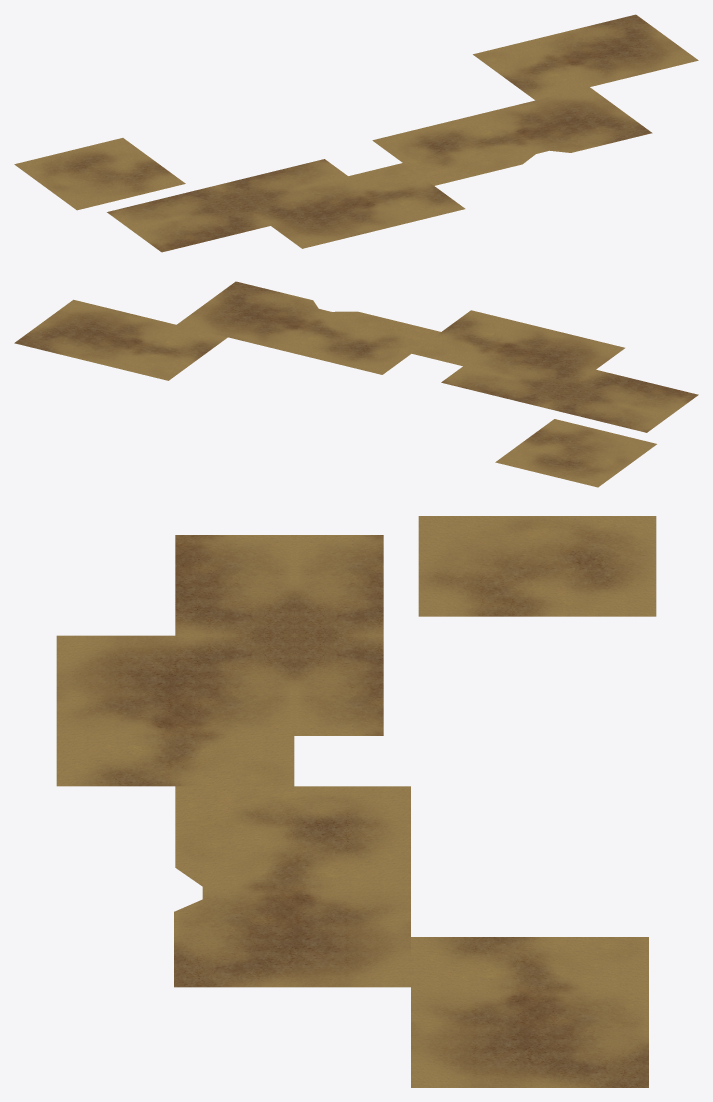
The model's file is Northern Desert_1F_all.FBX.
3 renders of one model, top to bottom at view 1: azimuth 30°, elevation 25°; view 2: azimuth 150°, elevation 25°; view 3: azimuth 270°, elevation 25°, orthographic. The views are drawn at different scales.
Parts seen in each view (by area): view 1: Northern Desert_1F_03, Northern Desert_1F_02, Northern Desert_1F_04, Northern Desert_1F_01, Northern Desert_1F_05; view 2: Northern Desert_1F_03, Northern Desert_1F_02, Northern Desert_1F_04, Northern Desert_1F_01, Northern Desert_1F_05; view 3: Northern Desert_1F_03, Northern Desert_1F_02, Northern Desert_1F_04, Northern Desert_1F_01, Northern Desert_1F_05.
Part boxes in pixels (x1,y1,x2,y2): Northern Desert_1F_03: (372,87,652,185); Northern Desert_1F_02: (216,159,465,248); Northern Desert_1F_04: (473,14,698,100); Northern Desert_1F_01: (14,138,185,210); Northern Desert_1F_05: (107,185,270,252); Northern Desert_1F_03: (177,281,440,374); Northern Desert_1F_02: (412,310,624,407); Northern Desert_1F_04: (14,299,227,380); Northern Desert_1F_01: (495,419,656,487); Northern Desert_1F_05: (544,369,698,432); Northern Desert_1F_03: (174,786,410,987); Northern Desert_1F_02: (56,635,383,786); Northern Desert_1F_04: (411,937,648,1087); Northern Desert_1F_01: (418,516,656,616); Northern Desert_1F_05: (175,535,383,635).
Bounding box in the file's own units: 90.97 × 1.22e-06 × 40.34.
